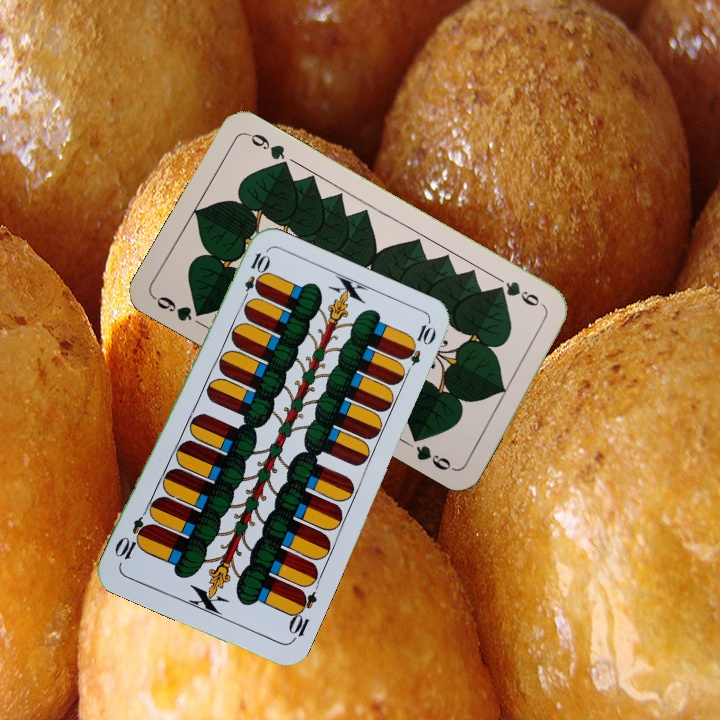E10: (284, 586, 320, 644), (238, 248, 271, 306)
G9: (491, 274, 548, 311), (150, 292, 209, 324)
